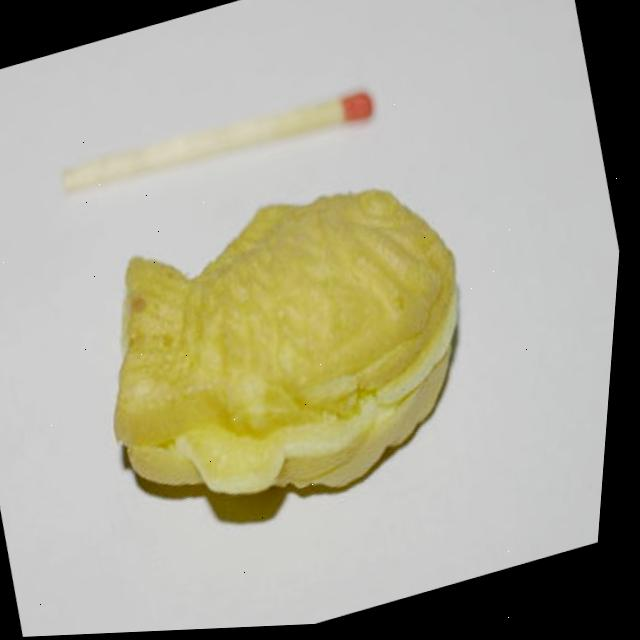熟制海鲜: (80, 318, 465, 636)
